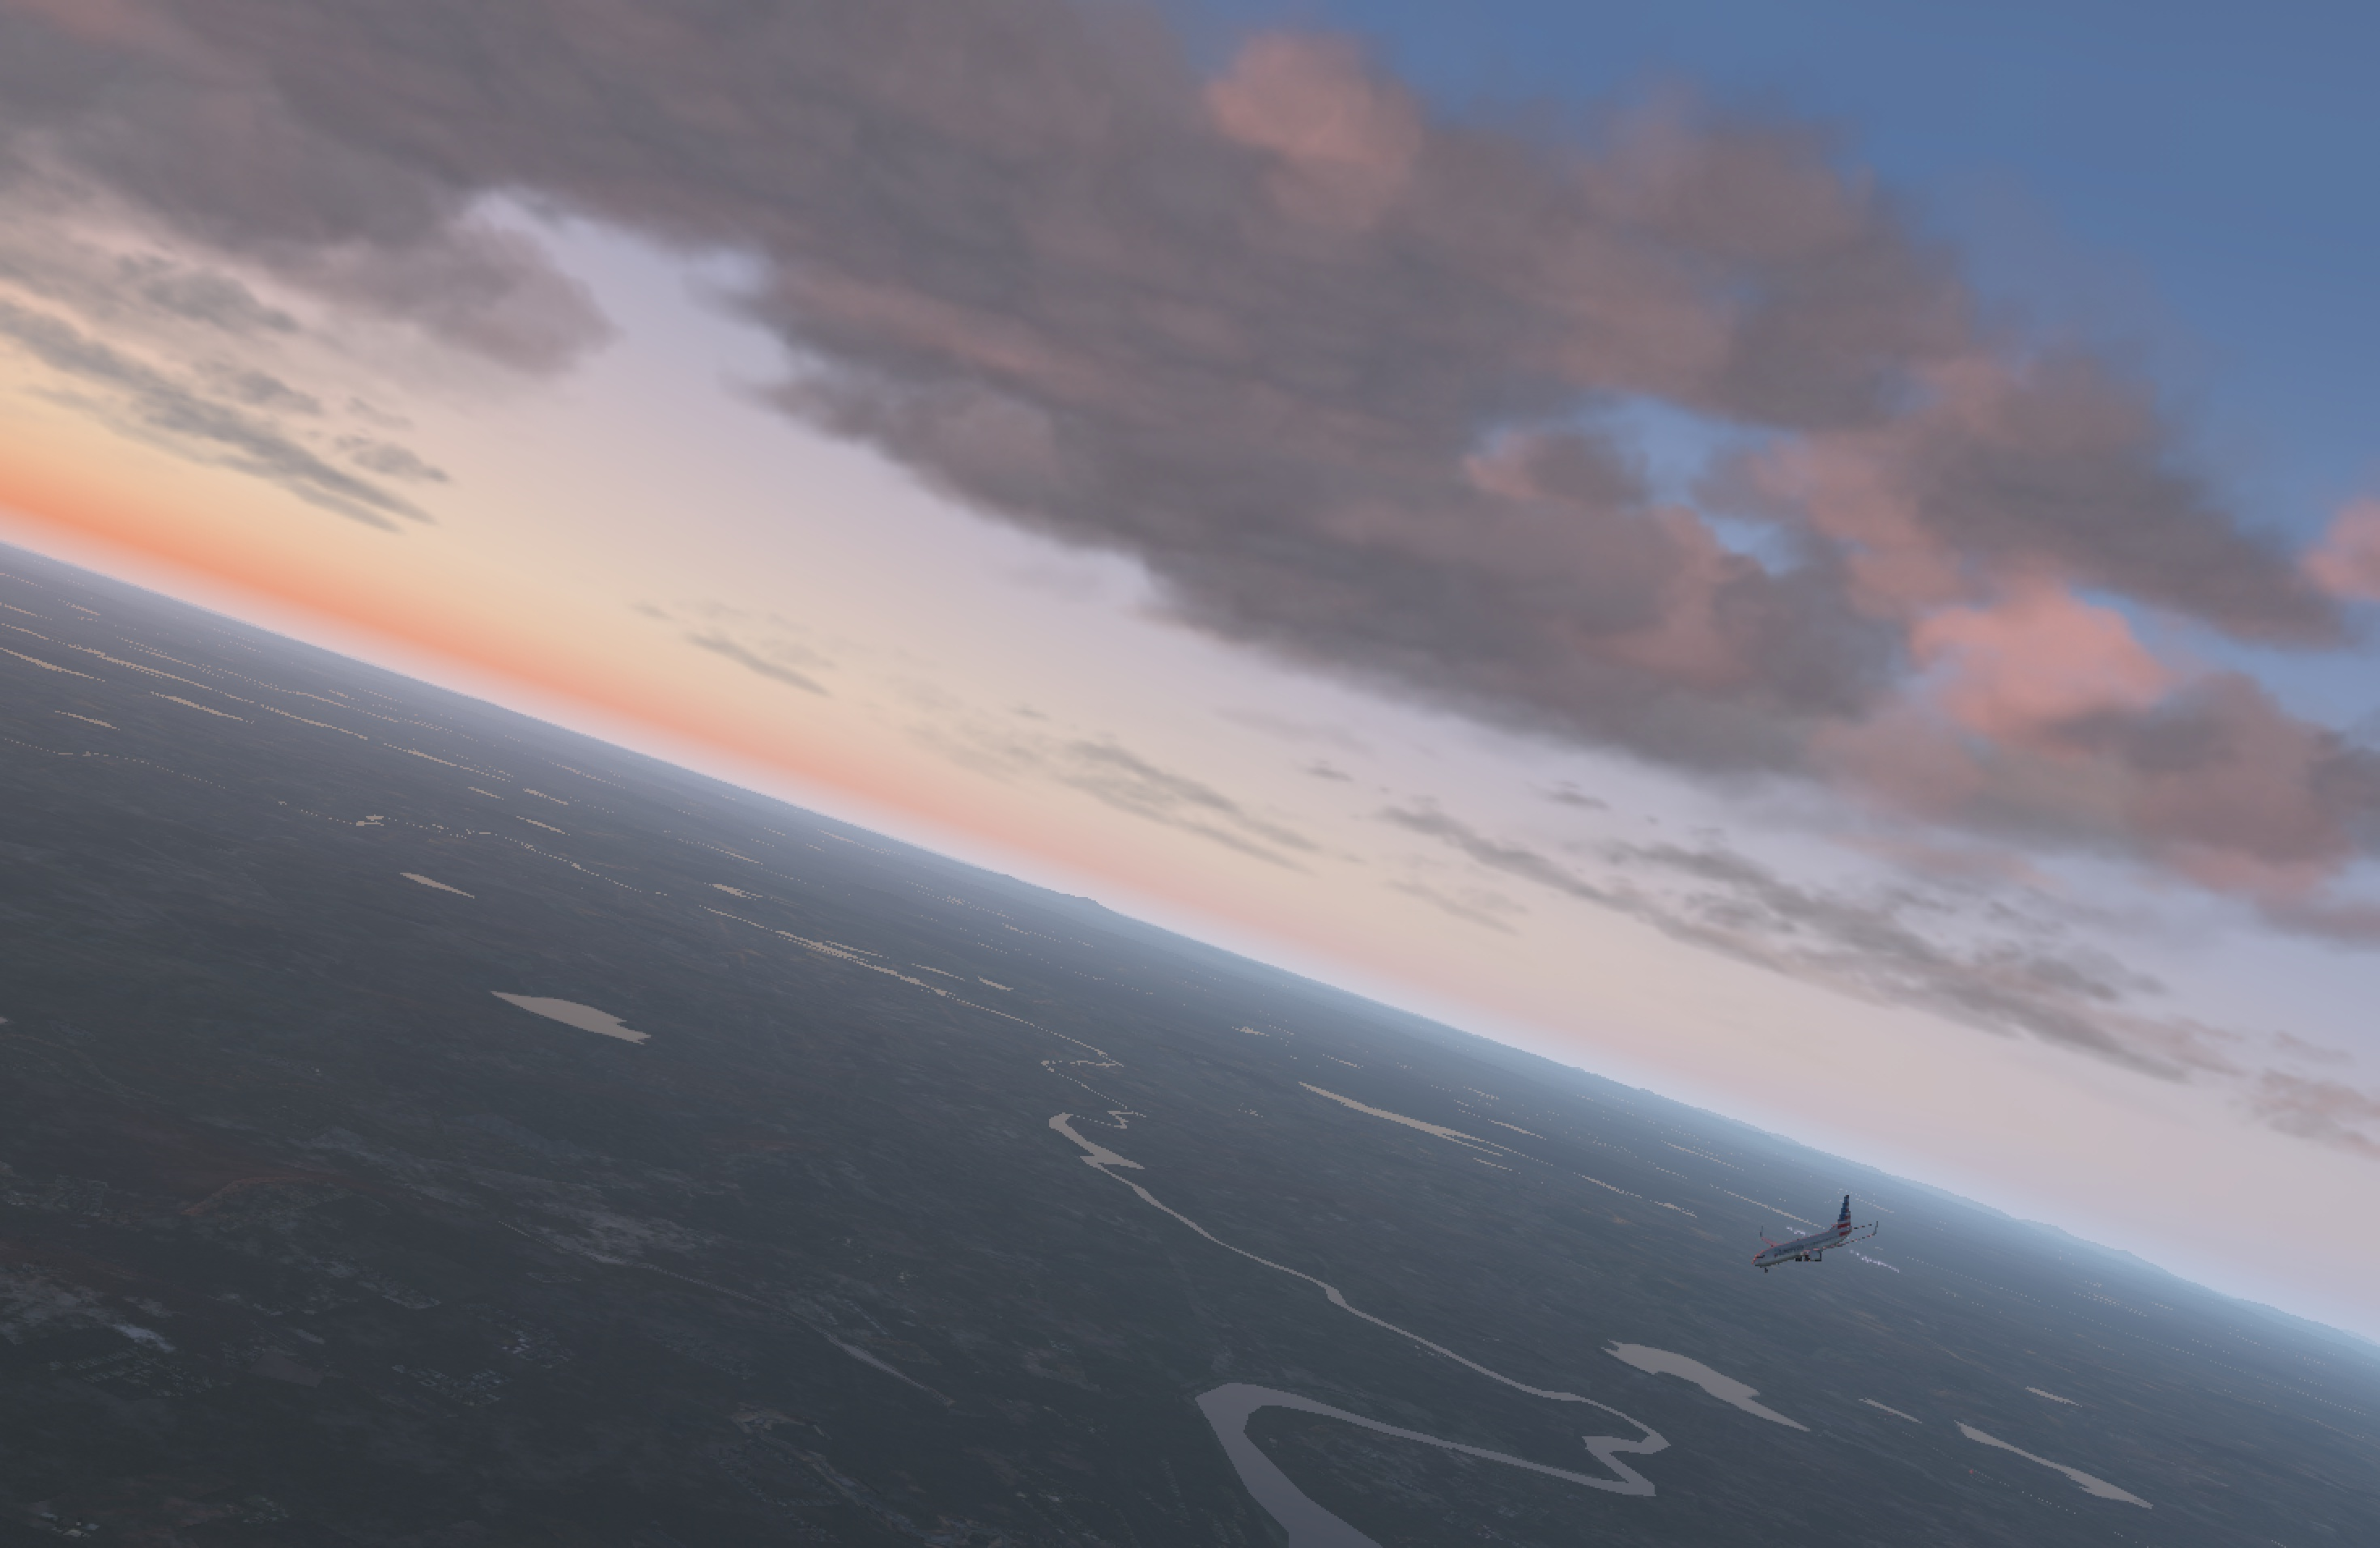aircraft: (1726, 1222, 1879, 1279)
